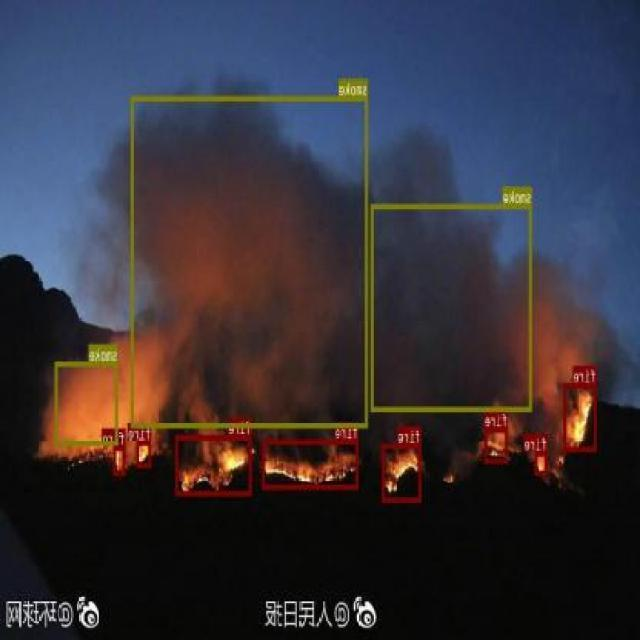Fire: (263, 438, 359, 489), (177, 434, 252, 494), (564, 383, 598, 451), (383, 443, 422, 502), (486, 427, 508, 462), (137, 439, 152, 467), (114, 445, 126, 473), (535, 450, 548, 475)
Smoke: (132, 95, 368, 428), (371, 203, 532, 411), (55, 360, 118, 445)
